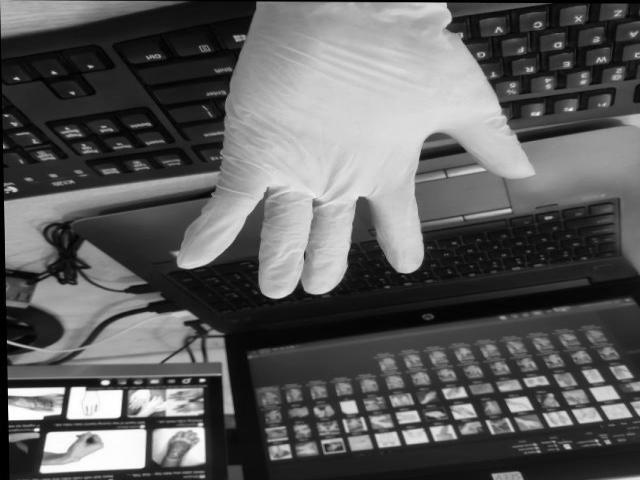gloved: (181, 0, 528, 304)
